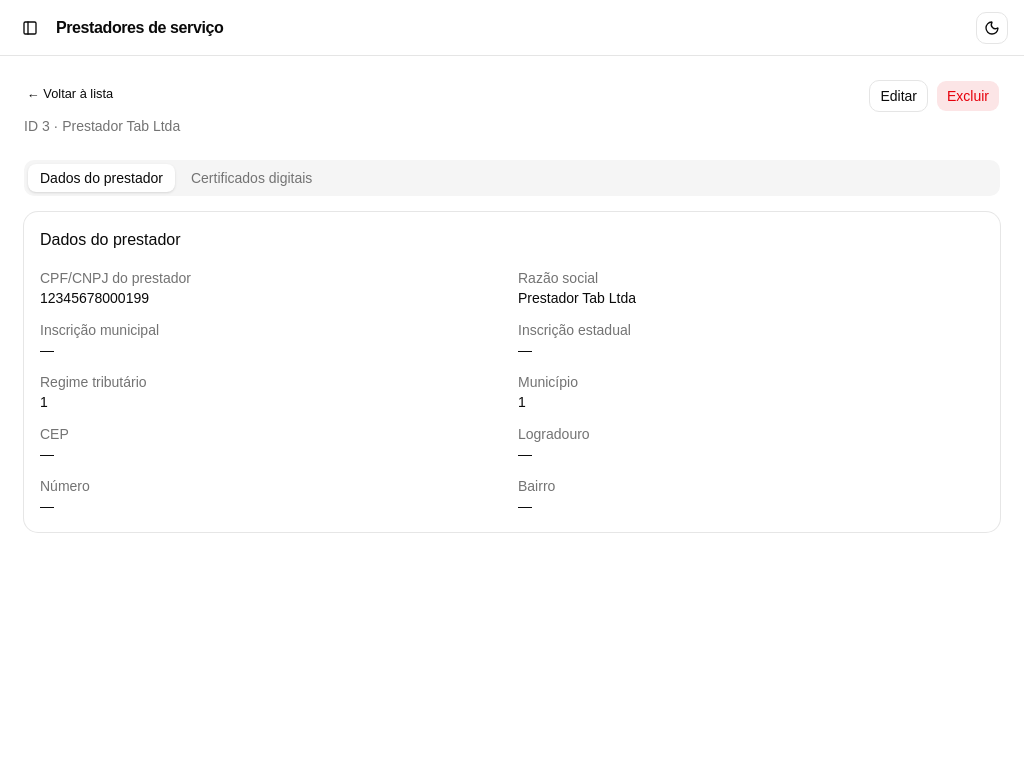
Test: Resource pages › opens certificados tab on prestador show without prefetching certificados list
The image size is (1024, 768).
Expected: the tab "Dados do prestador" is shown, [28,164,175,192]
Expected: the link "Editar" is shown, [869,80,928,112]
Click the tab "Certificados digitais".
click(252, 178)  # box [179,164,324,192]
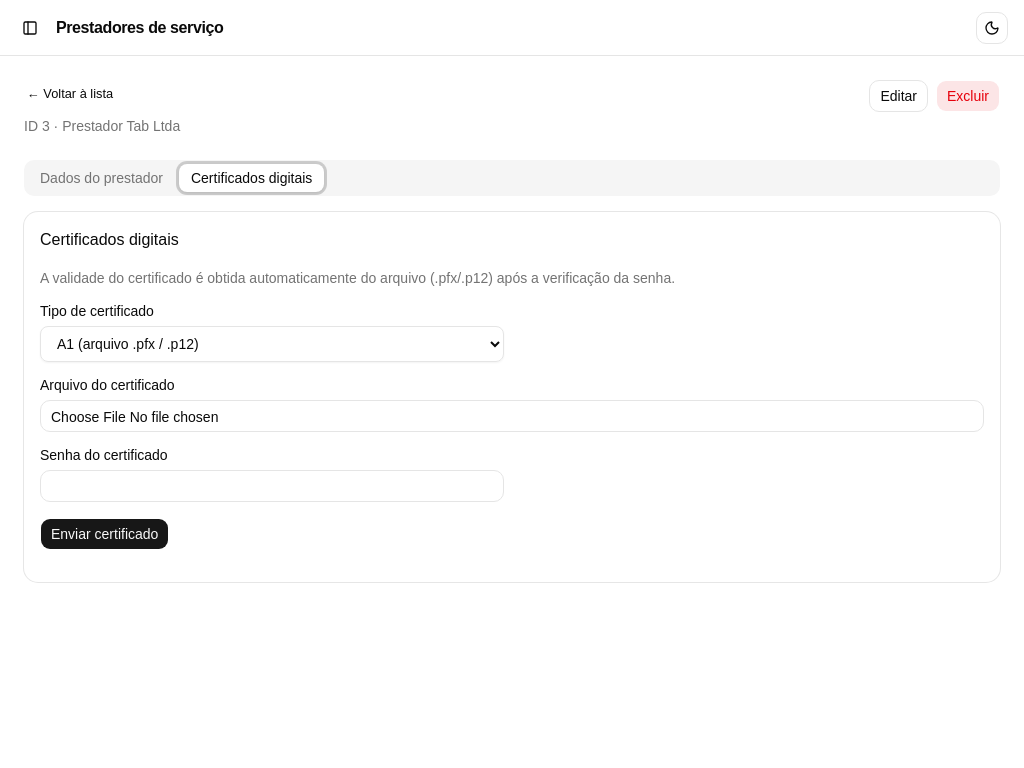
Result: the button "Enviar certificado" is shown at [40,518,169,550]
